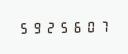five: (17, 20, 29, 34), (56, 20, 68, 33)
nine: (30, 20, 42, 34)
seven: (95, 19, 107, 33)
six: (69, 19, 81, 33)
two: (43, 20, 55, 34)
zero: (82, 19, 94, 33)
